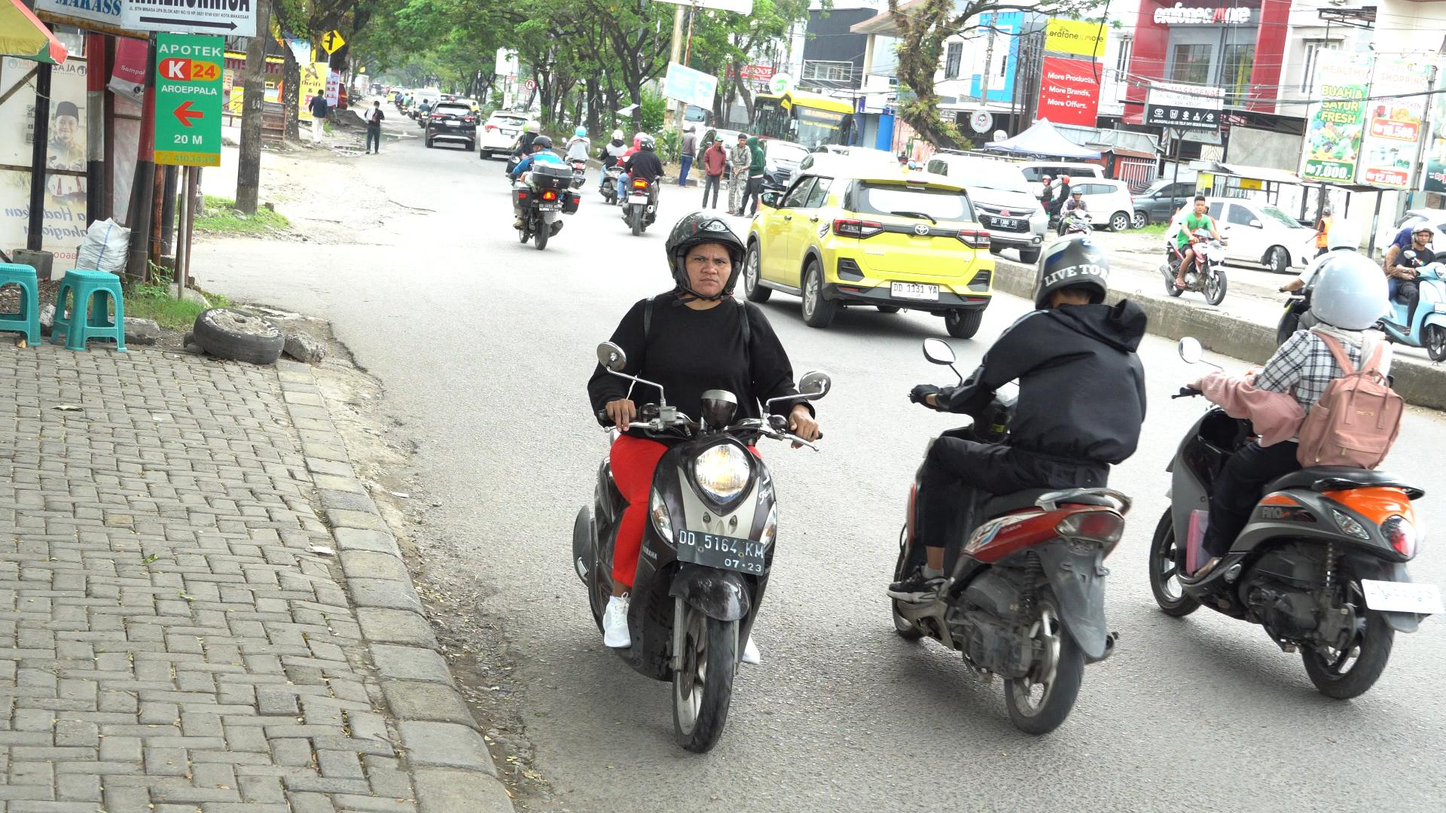number-plate: (676, 527, 769, 577)
